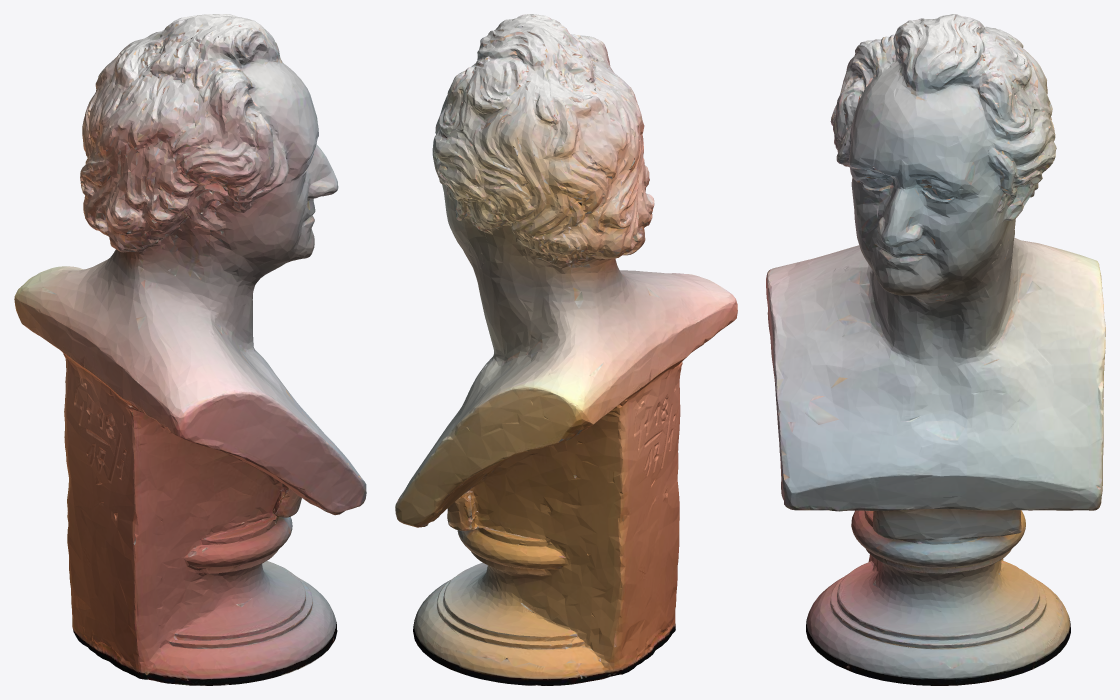
The model's file is goethe.glb.
3 views of the same model, side by side, from view 1: azimuth 30°, elevation 25°; view 2: azimuth 150°, elevation 25°; view 3: azimuth 270°, elevation 25° (orthographic).
Visible parts, largest first — view 1: Poetsche_Photoskultur_Goethe; view 2: Poetsche_Photoskultur_Goethe; view 3: Poetsche_Photoskultur_Goethe.
Part boxes in pixels (left/top/right/bottom): Poetsche_Photoskultur_Goethe: left=14, top=14, right=366, bottom=685; Poetsche_Photoskultur_Goethe: left=395, top=14, right=737, bottom=685; Poetsche_Photoskultur_Goethe: left=766, top=14, right=1105, bottom=685.
Bounding box in the file's own units: 0.238 × 0.5986 × 0.2998.
Materials: 1 (1 with a texture image).
